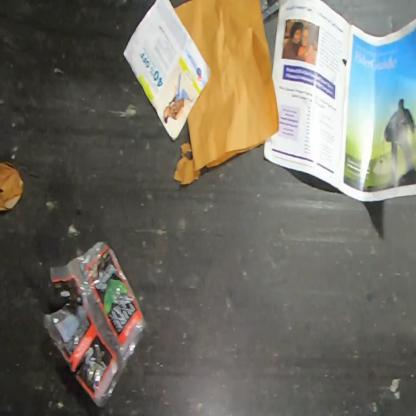soft_plastic: (41, 238, 150, 412)
